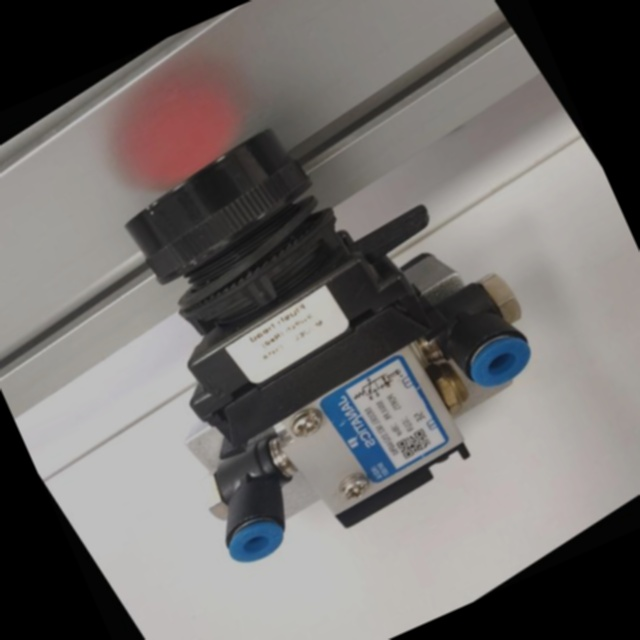push button: (19, 37, 600, 620)
